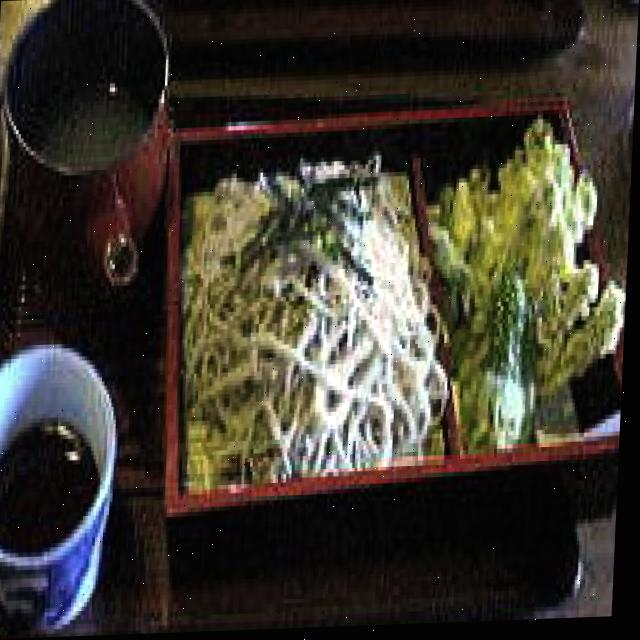面条主食: (136, 90, 476, 553)
